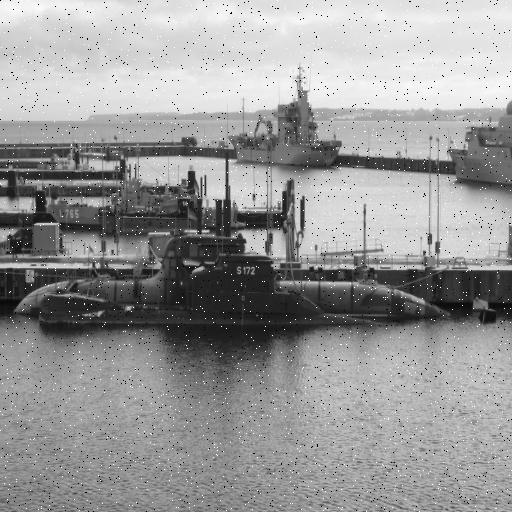submarine: (31, 243, 377, 323)
